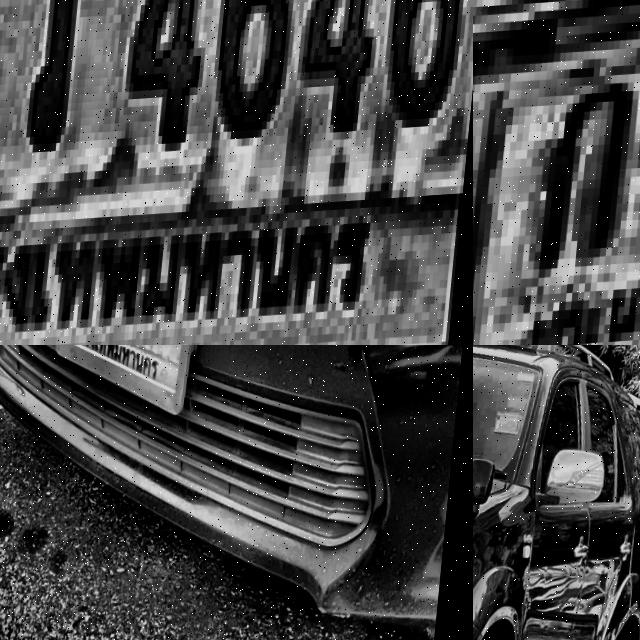license-plate: (0, 0, 473, 345), (473, 0, 640, 345), (50, 345, 211, 430)
